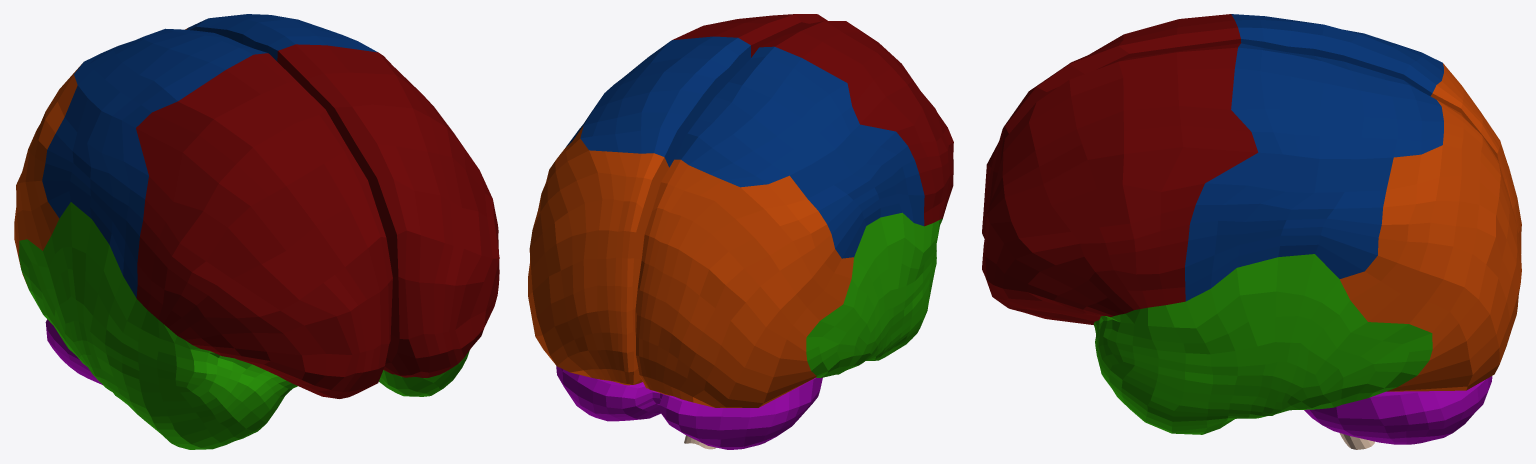
Rendered from mozog_1_9.fbx.
The picture shows the model from 3 angles, left to right: view 1: azimuth 30°, elevation 25°; view 2: azimuth 150°, elevation 25°; view 3: azimuth 270°, elevation 25°; orthographic projection. The views are drawn at different scales.
Parts seen in each view (by area): view 1: F, T, P, O, C; view 2: O, P, F, T, C; view 3: F, P, T, O, C.
Part boxes in pixels (x1=…): F: x1=136, y1=44, x2=499, y2=398; T: x1=19, y1=202, x2=469, y2=449; P: x1=42, y1=14, x2=377, y2=297; O: x1=14, y1=28, x2=187, y2=283; C: x1=45, y1=319, x2=102, y2=384; O: x1=528, y1=126, x2=853, y2=407; P: x1=565, y1=36, x2=924, y2=258; F: x1=672, y1=14, x2=953, y2=226; T: x1=806, y1=212, x2=942, y2=377; C: x1=556, y1=366, x2=822, y2=449; F: x1=982, y1=14, x2=1258, y2=324; P: x1=1185, y1=14, x2=1443, y2=301; T: x1=1093, y1=254, x2=1432, y2=434; O: x1=1340, y1=63, x2=1521, y2=391; C: x1=1304, y1=376, x2=1492, y2=444.
Bounding box in the file's own units: 344 × 396 × 477.
